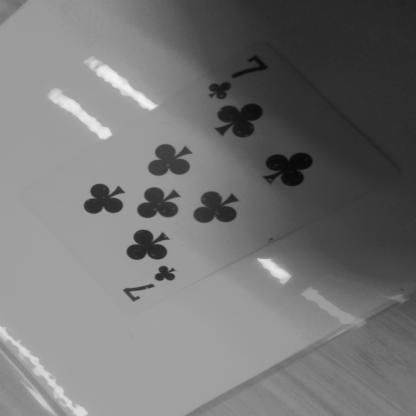7C: (107, 251, 194, 316), (192, 51, 283, 107)
